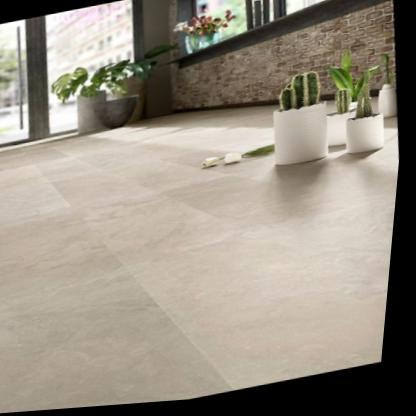Ceramic floor: (0, 109, 402, 414)
